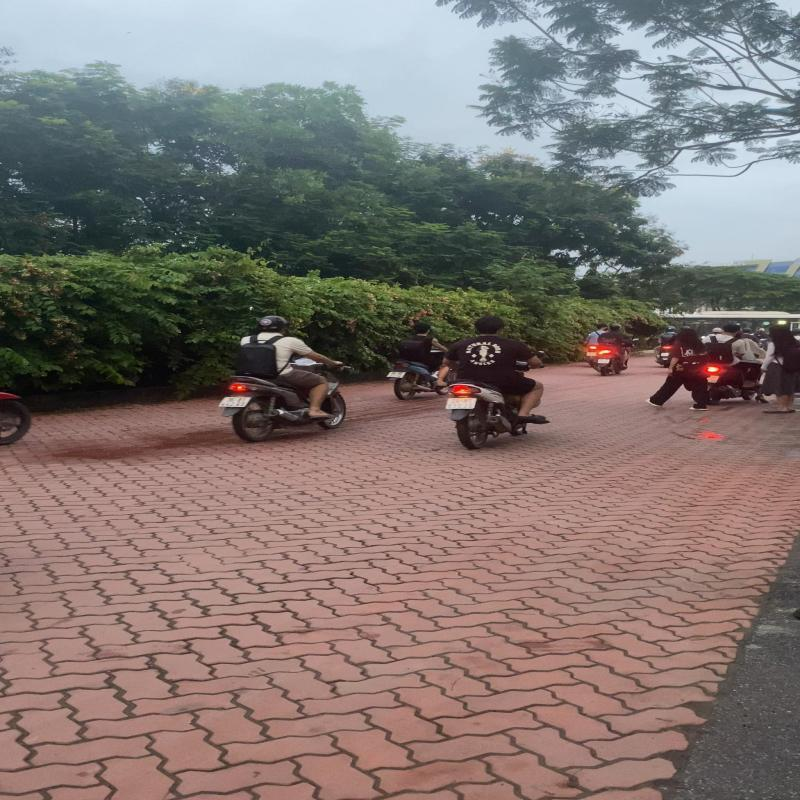licenseplate: (446, 398, 477, 408)
motorcyclist: (434, 316, 551, 450)
nohelmet: (474, 316, 503, 334)
